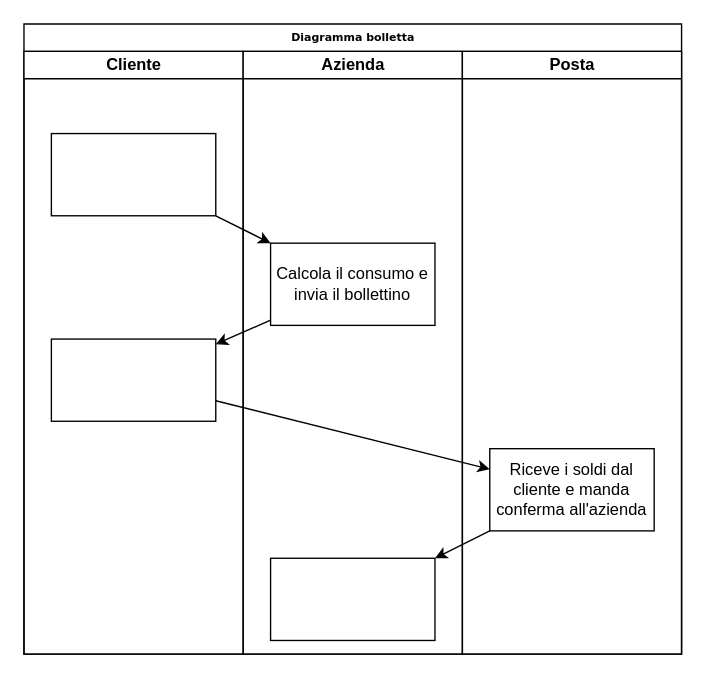
Image size: 706x678. Some labels were removed from this diagram. Here are the shapes that lost their labels. From the top down, the centre of each, then its label:
At point (133, 174): "Consuma corrente".
At point (133, 379): "Riceve il bollettino e si reca in posta".
At point (352, 598): "Riceve notifica pagamento avvenuto".
